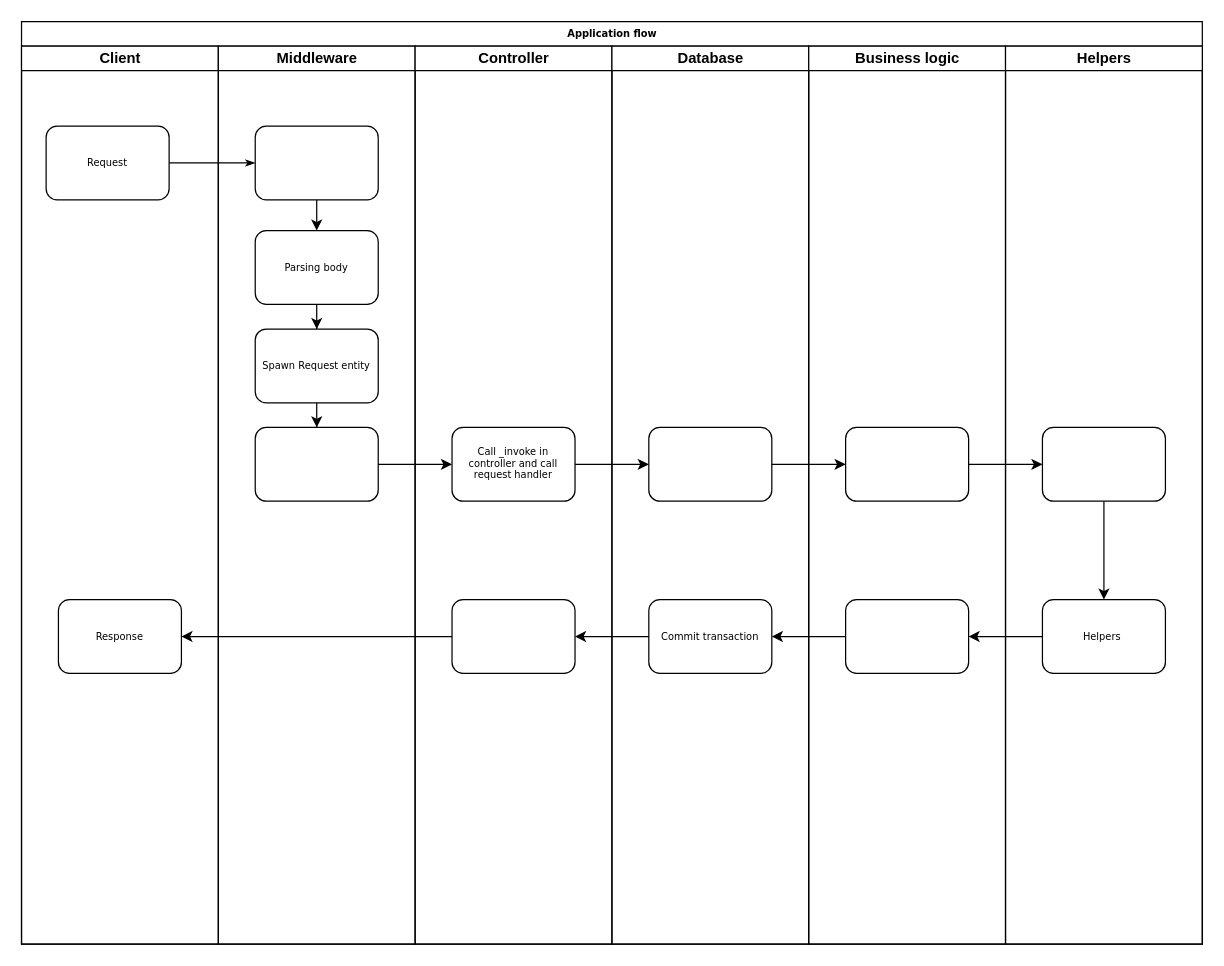
Some shapes in this 1224 by 966 pixel diagram are drawn without their labels. The centre of each missing label's shape, as x and y in pixels:
"Calling service-helpers" goes at (1103,463).
"Finalize handling" goes at (906,635).
"Handling requests. Check rules. Actions on the entity." goes at (906,463).
"Logging incoming requests" goes at (316,162).
"Open transaction" goes at (710,463).
"Resolving controller" goes at (316,463).
"Spawn response" goes at (513,635).
